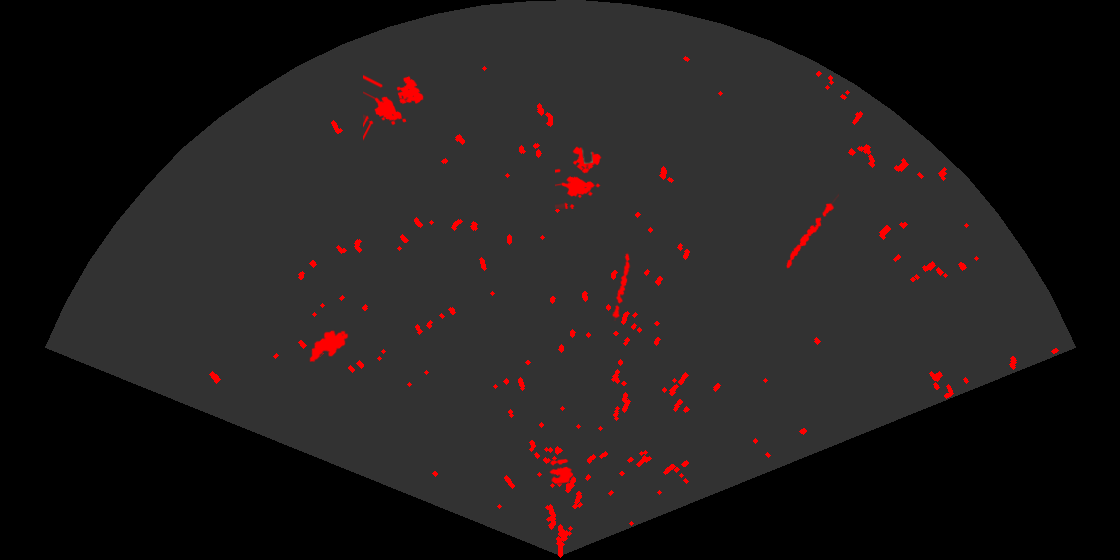AUV: (308, 329, 350, 364)
ball: (548, 457, 575, 486)
cage: (363, 73, 425, 142), (555, 145, 603, 209)
chain: (785, 192, 839, 270), (611, 251, 632, 321)
